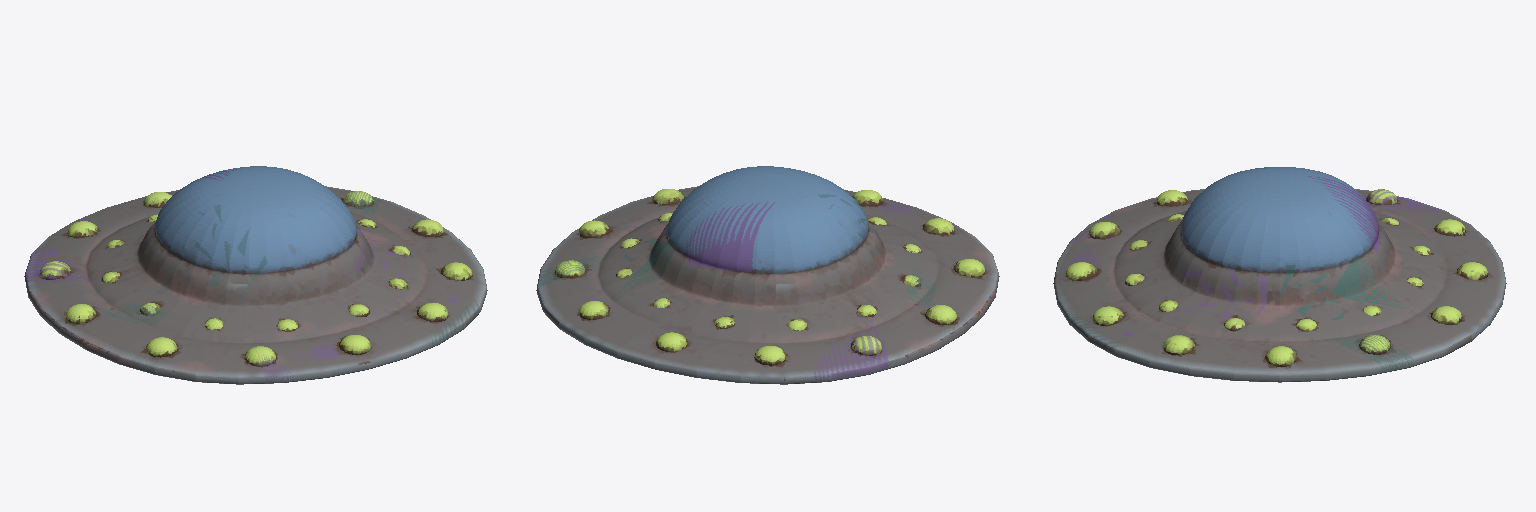
The picture shows the model from 3 angles: view 1: azimuth 30°, elevation 25°; view 2: azimuth 150°, elevation 25°; view 3: azimuth 270°, elevation 25°; orthographic projection.
Visible parts, largest first — view 1: toyUFO; view 2: toyUFO; view 3: toyUFO.
Boxes of the visible parts, x1,y1,x2,y2 form: toyUFO: [24, 166, 487, 384]; toyUFO: [536, 166, 999, 384]; toyUFO: [1053, 167, 1506, 382].
Size of the model in its own units: 0.1669 by 0.0585 by 0.1669.
1 materials, 1 textured.